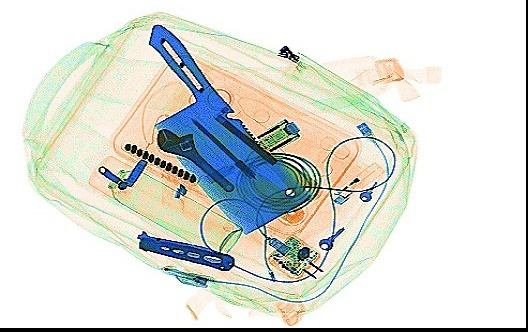knife: (146, 23, 312, 234), (135, 227, 235, 272)
lighter: (331, 160, 384, 205)
pressure: (86, 153, 242, 260)
